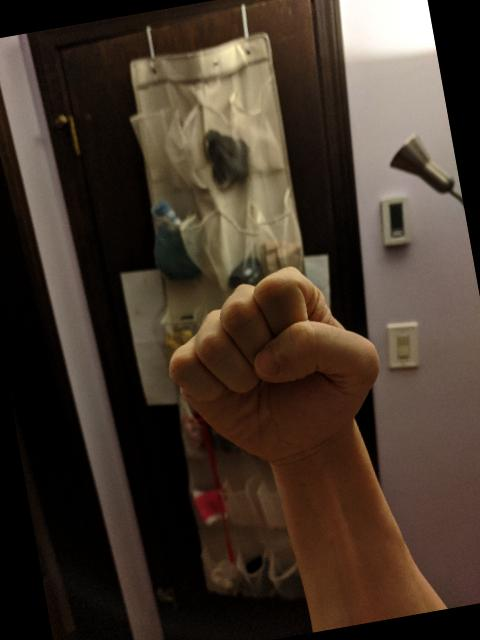S: (148, 247, 399, 488)
